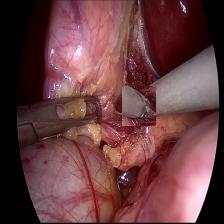Grasper: (30, 92, 108, 138)
Irrigator: (122, 86, 156, 126)
